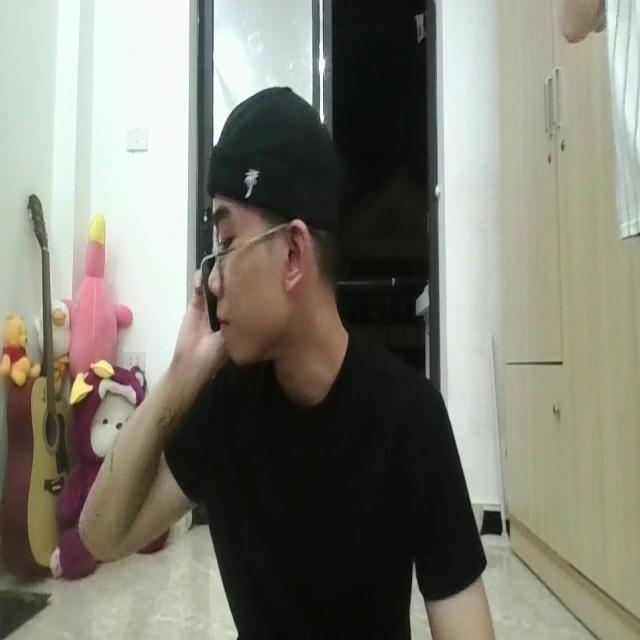phone: (198, 241, 222, 328)
student: (76, 86, 500, 640)
